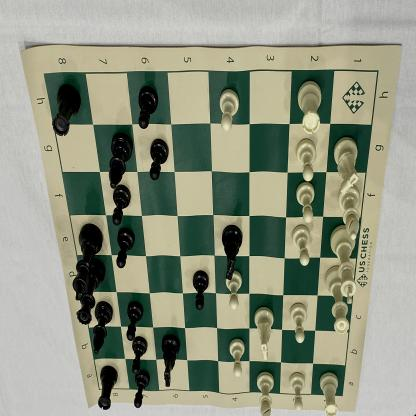black-bishop: (110, 131, 132, 189), (93, 300, 114, 356)
black-king: (74, 224, 102, 301)
black-knight: (221, 225, 244, 279), (160, 334, 180, 389)
black-pawn: (137, 85, 159, 132), (150, 137, 170, 182), (116, 228, 136, 270), (111, 184, 131, 225), (193, 269, 210, 312), (127, 301, 144, 343), (134, 371, 151, 411), (131, 338, 148, 372)
black-queen: (76, 261, 104, 325)
white-bishop: (337, 184, 362, 241), (255, 371, 276, 416)
white-king: (329, 224, 360, 306)
white-knight: (331, 137, 361, 195), (253, 306, 276, 362)
white-pawn: (295, 139, 318, 182), (218, 88, 240, 132), (292, 224, 311, 267), (296, 184, 316, 224), (288, 370, 307, 412), (290, 303, 308, 345), (225, 270, 243, 311), (228, 338, 247, 376)
white-queen: (324, 266, 354, 335)
white-rook: (52, 82, 82, 140), (297, 80, 324, 135), (98, 363, 118, 412), (319, 372, 341, 416)
